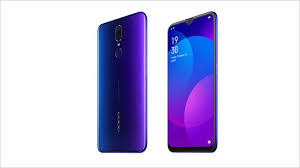oppo: (93, 4, 149, 152), (164, 10, 219, 152)
